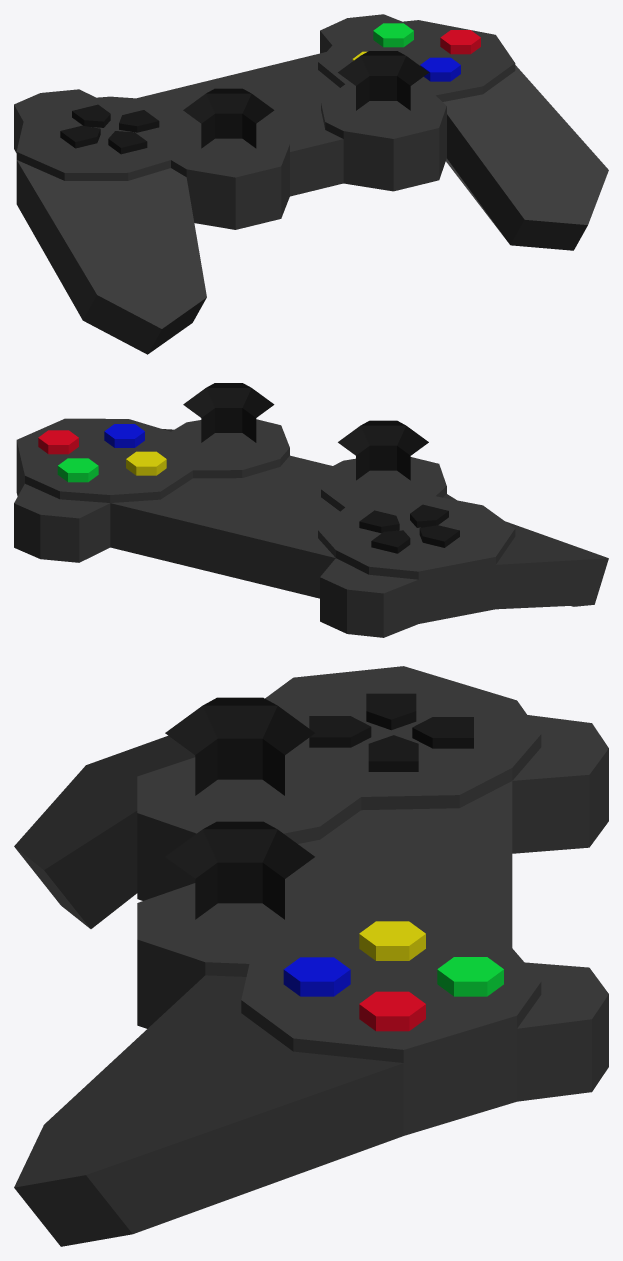
The model's file is game_controller.fbx.
3 renders of one model, top to bottom at view 1: azimuth 30°, elevation 25°; view 2: azimuth 150°, elevation 25°; view 3: azimuth 270°, elevation 25°, orthographic. The views are drawn at different scales.
Parts seen in each view (by area): view 1: Controller, Button, Button.002, Button.003, Arrow, Arrow.002, Arrow.003, Arrow.001; view 2: Controller, Button, Button.001, Button.002, Button.003, Arrow, Arrow.002, Arrow.001, Arrow.003; view 3: Controller, Button.002, Button.003, Button, Button.001, Arrow.001, Arrow.003, Arrow, Arrow.002.
Part boxes in pixels (<box>): Controller: <box>14,14,608,354</box>; Button: <box>373,23,413,47</box>; Button.002: <box>440,30,480,54</box>; Button.003: <box>420,57,460,81</box>; Arrow: <box>60,125,100,148</box>; Arrow.002: <box>119,110,159,132</box>; Arrow.003: <box>108,131,147,154</box>; Arrow.001: <box>72,104,110,127</box>; Controller: <box>14,383,608,637</box>; Button: <box>57,458,98,482</box>; Button.001: <box>126,451,166,475</box>; Button.002: <box>38,430,78,454</box>; Button.003: <box>104,424,144,447</box>; Arrow: <box>419,525,459,547</box>; Arrow.002: <box>359,510,399,533</box>; Arrow.001: <box>371,530,410,553</box>; Arrow.003: <box>410,504,448,527</box>; Controller: <box>14,666,608,1246</box>; Button.002: <box>359,991,425,1031</box>; Button.003: <box>283,957,350,996</box>; Button: <box>437,957,503,996</box>; Button.001: <box>359,921,425,960</box>; Arrow.001: <box>412,717,473,748</box>; Arrow.003: <box>309,716,371,747</box>; Arrow: <box>366,693,416,730</box>; Arrow.002: <box>368,735,418,771</box>.
Size of the model in its own units: 359 by 122 by 220.
